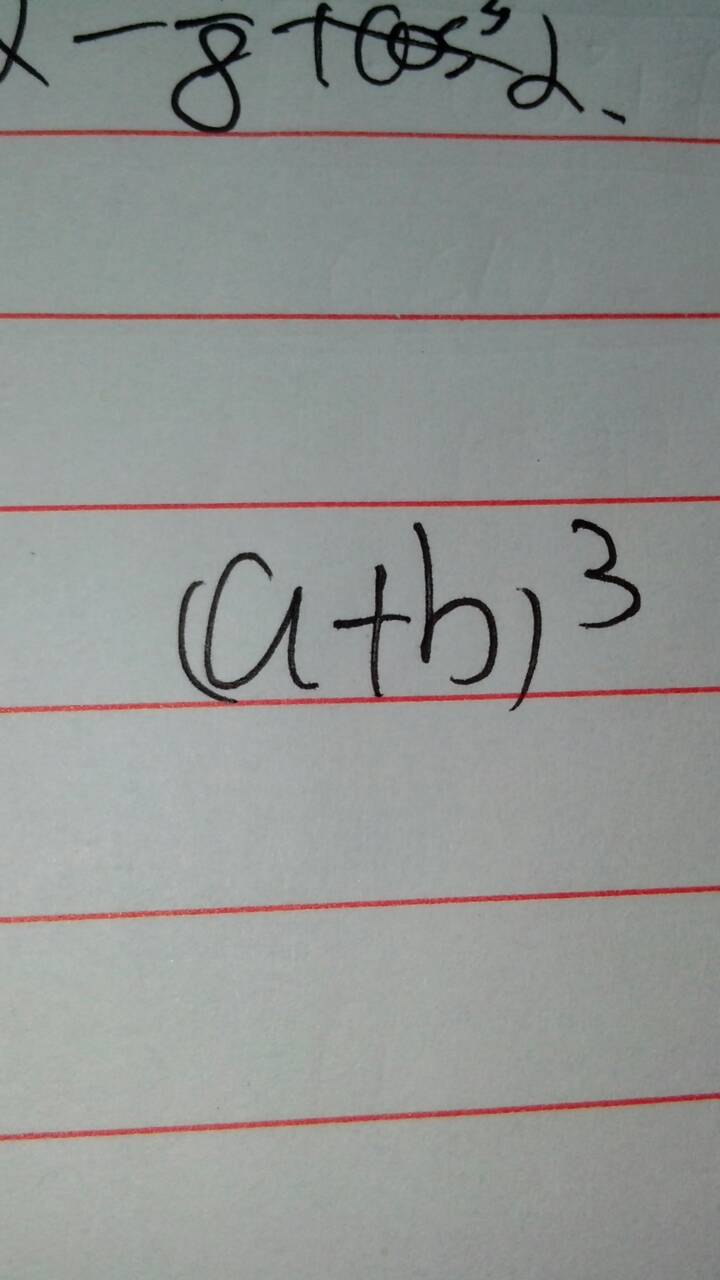cube: (568, 510, 645, 636)
